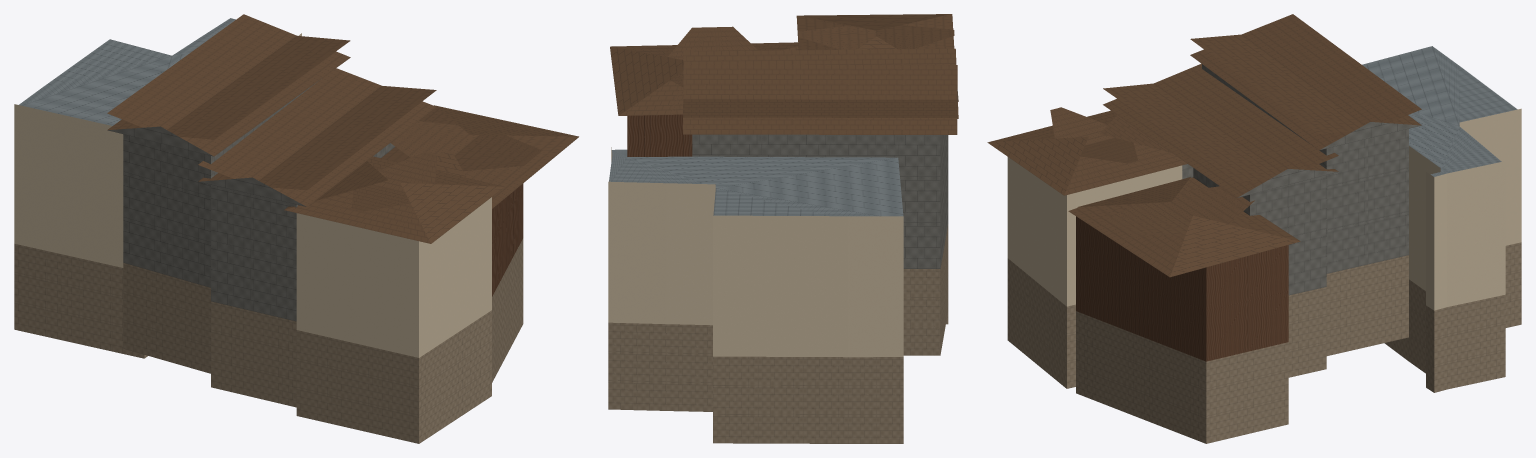
Rendered from bld_c33_46_242.gltf.
The picture shows the model from 3 angles, left to right: view 1: azimuth 30°, elevation 25°; view 2: azimuth 150°, elevation 25°; view 3: azimuth 270°, elevation 25°; orthographic projection. The views are drawn at different scales.
Visible parts, largest first — view 1: bld_c33_46_242; view 2: bld_c33_46_242; view 3: bld_c33_46_242.
Boxes of the visible parts, x1,y1,x2,y2 form: bld_c33_46_242: (14, 14, 578, 443); bld_c33_46_242: (608, 14, 958, 443); bld_c33_46_242: (987, 14, 1521, 443).
Bounding box in the file's own units: 26.58 × 15.9 × 30.01.
Materials: 8 (8 with a texture image).
